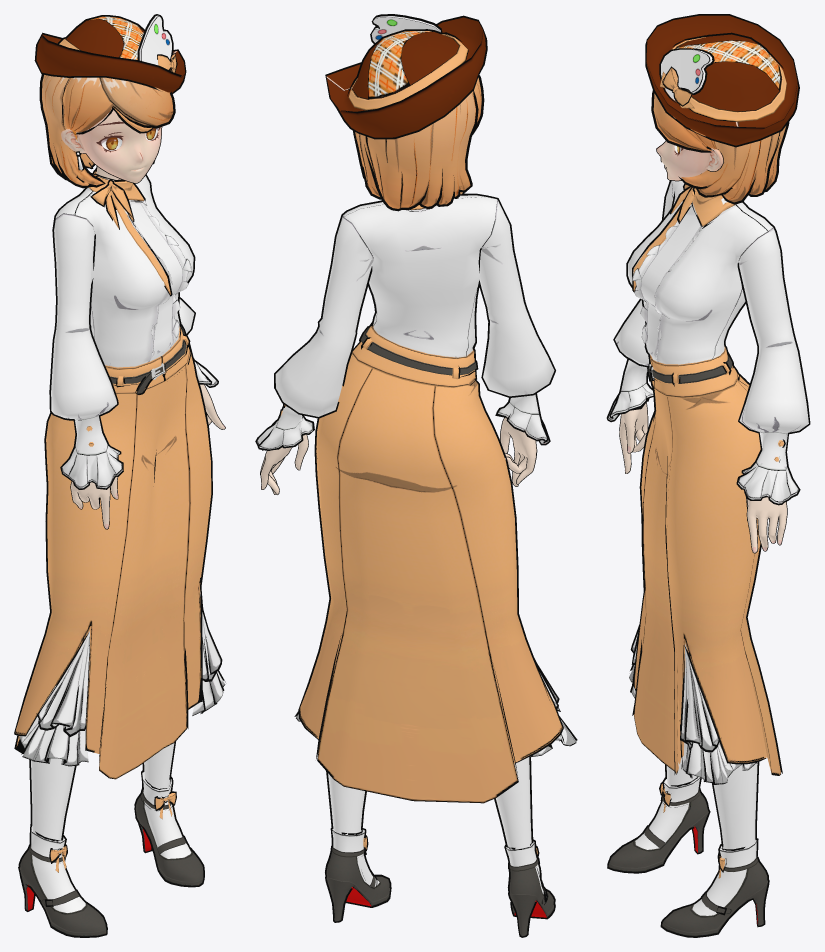
Rendered from SK_Cartoon_Female_029.glb.
The picture shows the model from 3 angles, left to right: view 1: azimuth 30°, elevation 25°; view 2: azimuth 150°, elevation 25°; view 3: azimuth 270°, elevation 25°; orthographic projection. The views are drawn at different scales.
Visible parts, largest first — view 1: SK_Cartoon_Female_029; view 2: SK_Cartoon_Female_029; view 3: SK_Cartoon_Female_029.
Part boxes in pixels (x1,y1,x2,y2): SK_Cartoon_Female_029: [14, 14, 225, 937]; SK_Cartoon_Female_029: [255, 14, 577, 937]; SK_Cartoon_Female_029: [606, 14, 810, 937].
Bounding box in the file's own units: 0.5303 × 1.71 × 0.3652.
Materials: 2 (1 with a texture image).
